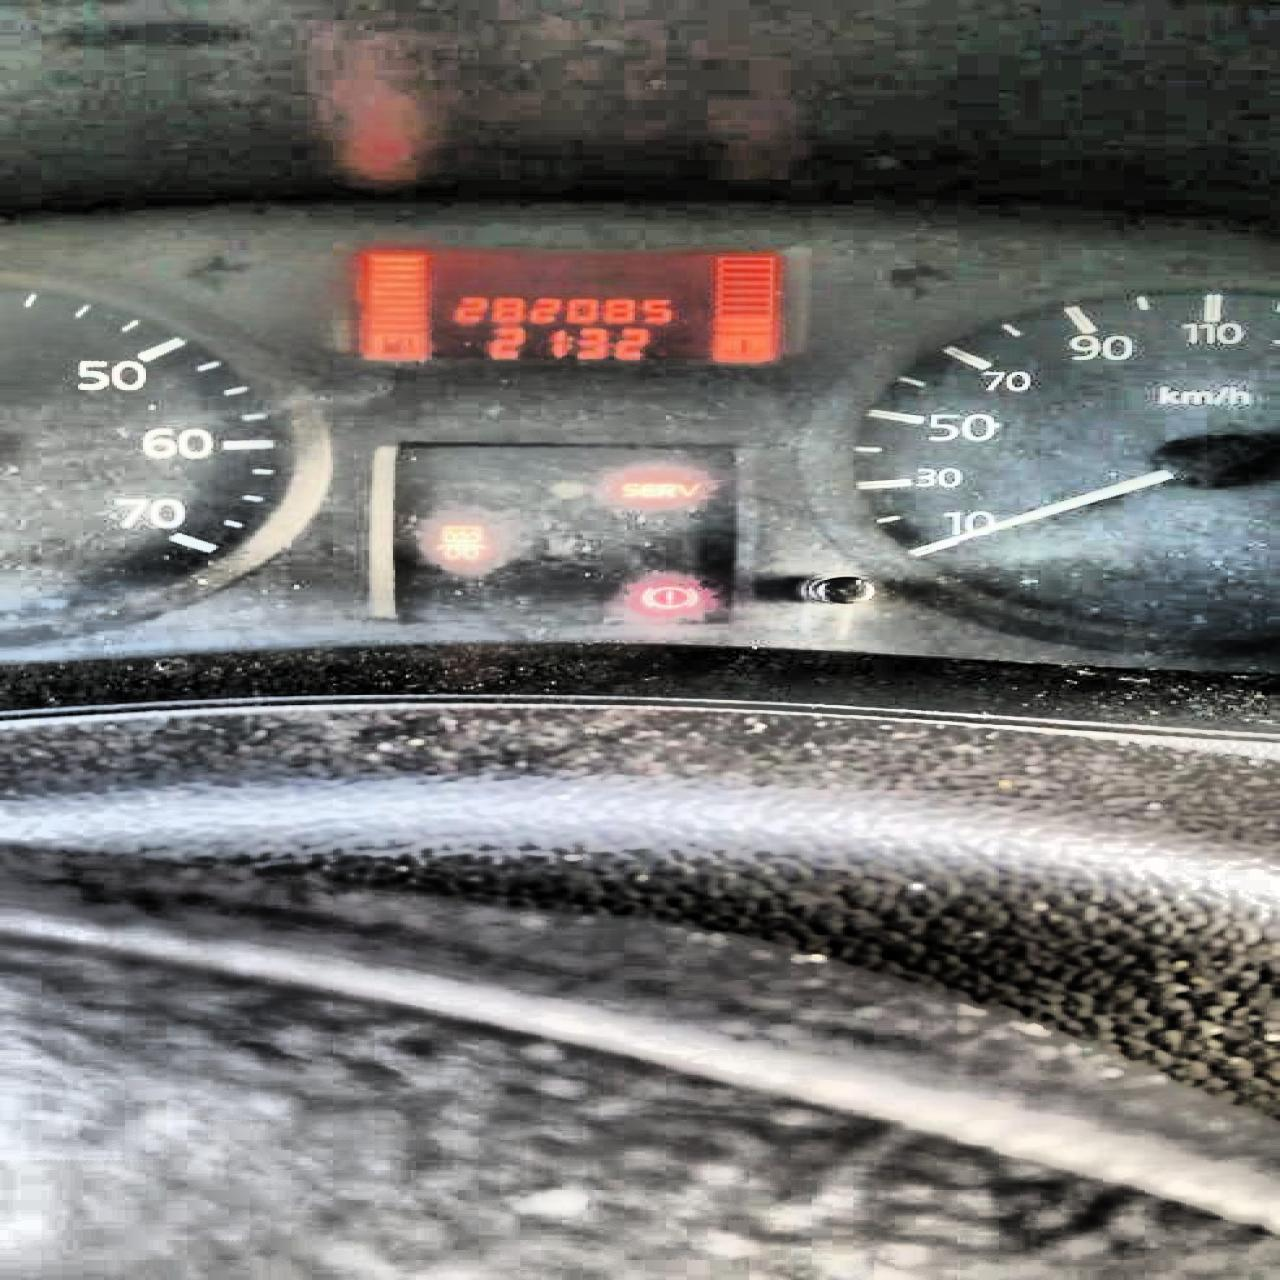0: (565, 298, 595, 320)
1: (544, 327, 565, 359)
2: (484, 325, 525, 359), (611, 327, 648, 359), (527, 297, 559, 320), (452, 297, 484, 320)
3: (572, 327, 606, 358)
5: (638, 298, 672, 321)
8: (599, 298, 633, 321), (492, 297, 523, 320)
X: (565, 334, 572, 352)
odometer: (341, 239, 817, 366)
